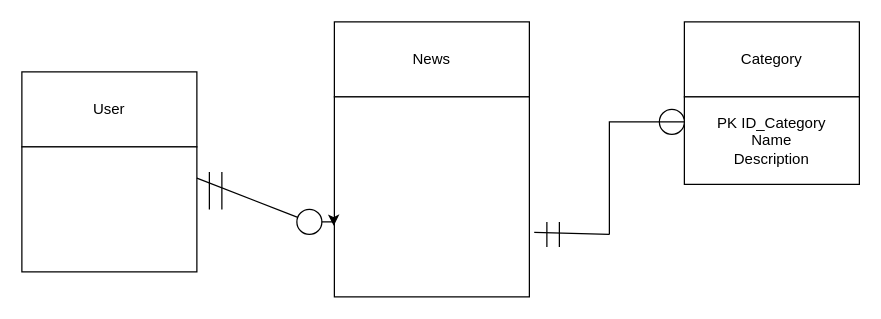
Image size: 881x319. Some labels were removed from this diagram. Each missing label, with the box of its shape:
PK ID_News Title Content Publication Date FK1 User FK2 Category: (333, 96, 529, 297)
PK ID_User Email Password Date of Register Admin: (21, 146, 197, 272)
